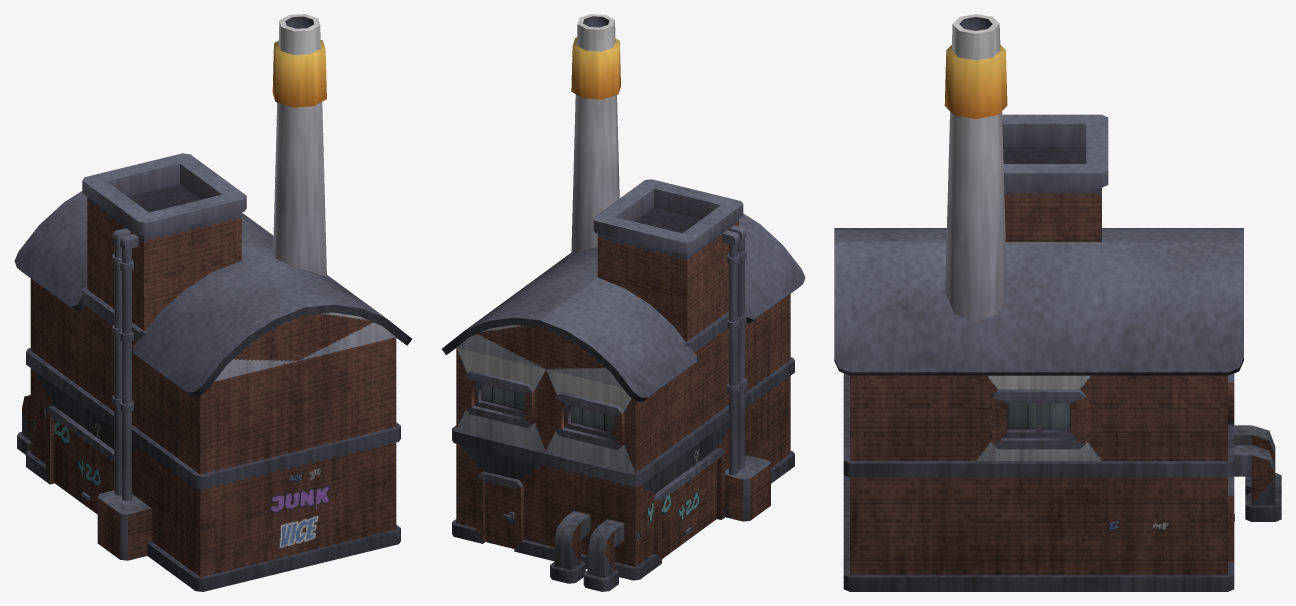
File: building-n-brown-scuffed.glb
3 renders of one model, left to right at view 1: azimuth 30°, elevation 25°; view 2: azimuth 150°, elevation 25°; view 3: azimuth 270°, elevation 25°, orthographic. The views are drawn at different scales.
Parts seen in each view (by area): view 1: building-n; view 2: building-n; view 3: building-n.
Boxes of the visible parts, bbox=[...] form: building-n: bbox=[14, 14, 411, 591]; building-n: bbox=[441, 14, 805, 591]; building-n: bbox=[834, 14, 1281, 591].
Size of the model in its own units: 0.9766 by 1.9 by 1.42.
1 material, 1 textured.
